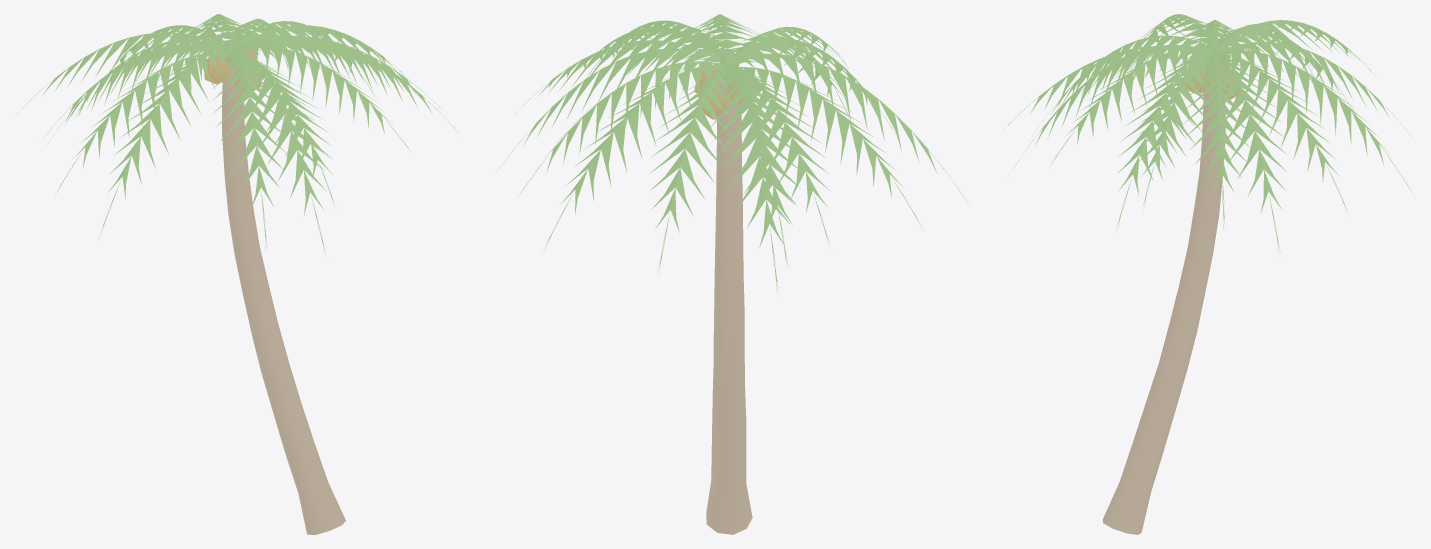
Rendered from Blender_Palm_2.glb.
3 renders of one model, left to right at view 1: azimuth 30°, elevation 25°; view 2: azimuth 150°, elevation 25°; view 3: azimuth 270°, elevation 25°, orthographic. The views are drawn at different scales.
Visible parts, largest first — view 1: Blender_Palm_2; view 2: Blender_Palm_2; view 3: Blender_Palm_2.
Boxes of the visible parts, bbox=[...] form: Blender_Palm_2: bbox=[16, 14, 458, 534]; Blender_Palm_2: bbox=[495, 14, 968, 534]; Blender_Palm_2: bbox=[1003, 14, 1412, 534].
Bounding box in the file's own units: 10.49 × 12.87 × 10.28.
